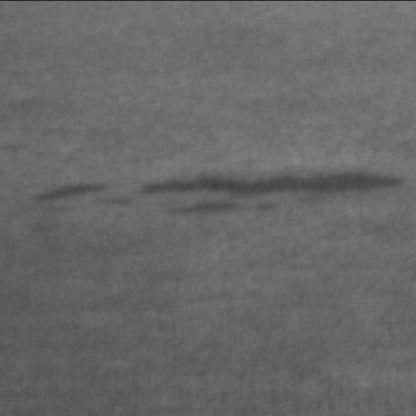inclusion: (129, 158, 403, 218), (25, 169, 127, 212)
